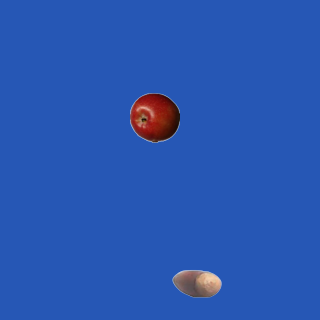Apple Braeburn: (129, 92, 179, 142)
Hazelnut: (171, 258, 221, 308)
